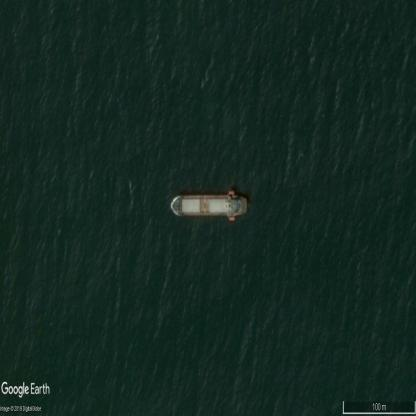ship: (172, 191, 247, 220)
